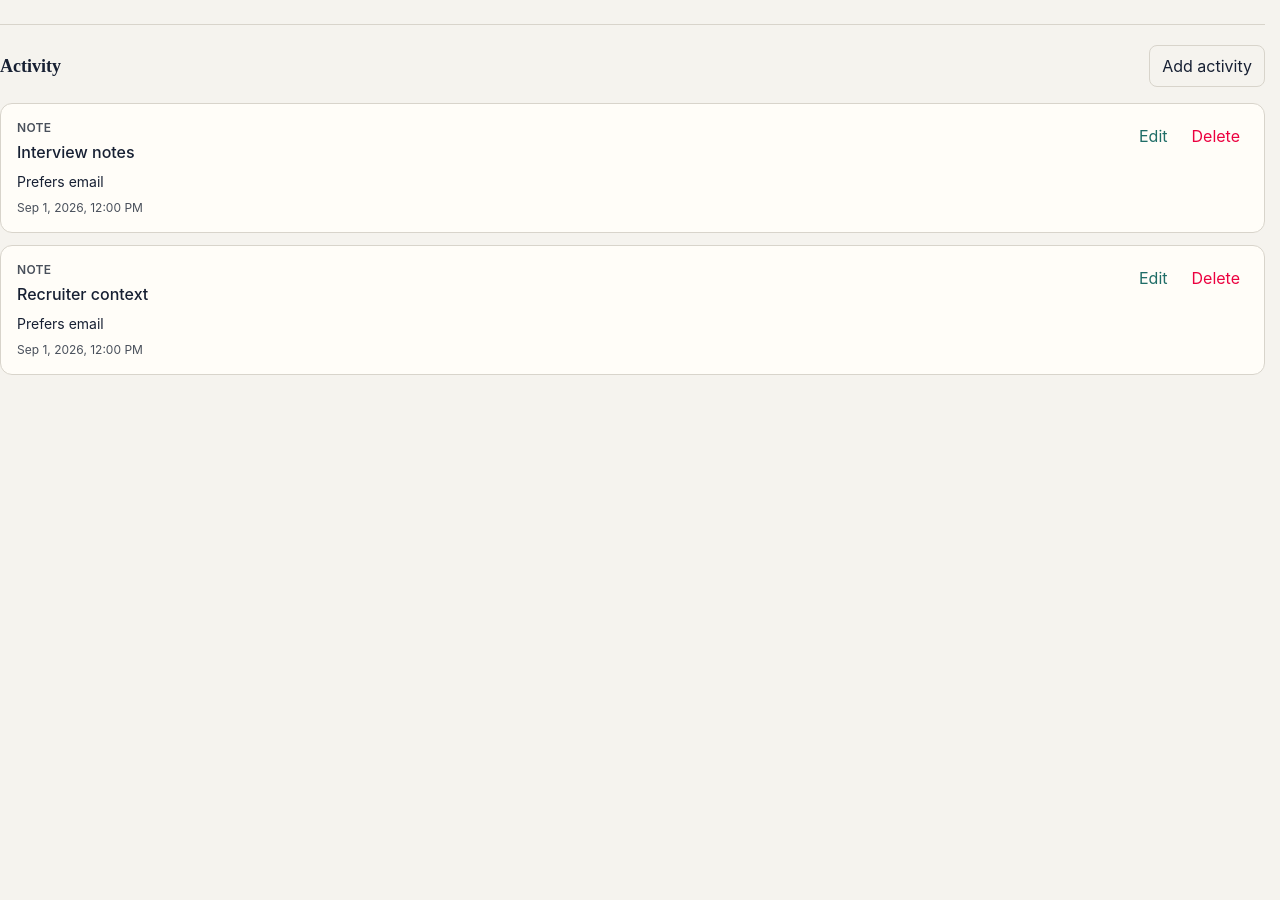
Scenario: asks before replacing a dirty activity editor
Click the button with aria-label "Edit Recruiter context". click: (1153, 278)
box: [1131,262,1176,294]
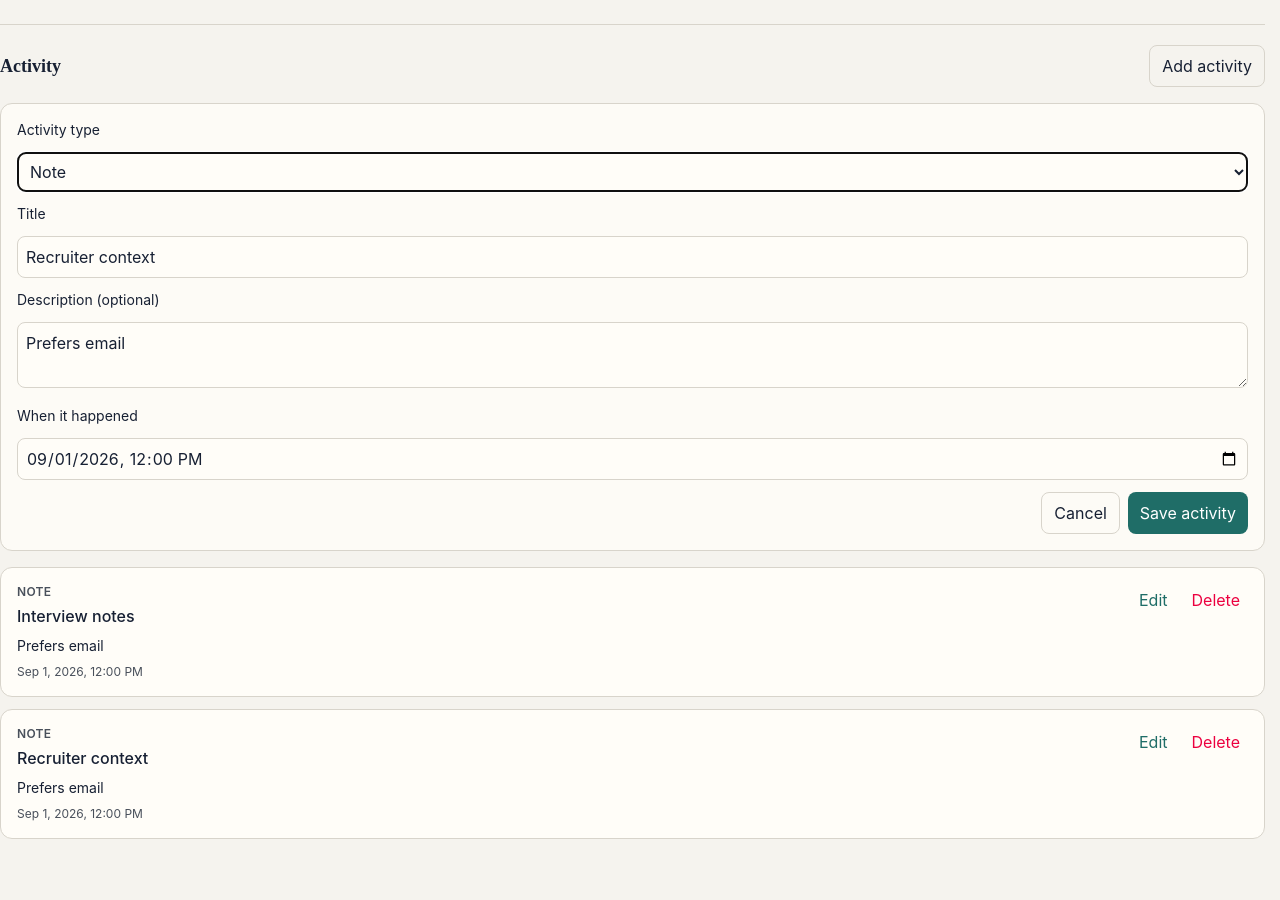
Replace the text in the field labelled "Title" with "Draft activity". click: (632, 257)
box: [17,236,1248,278]
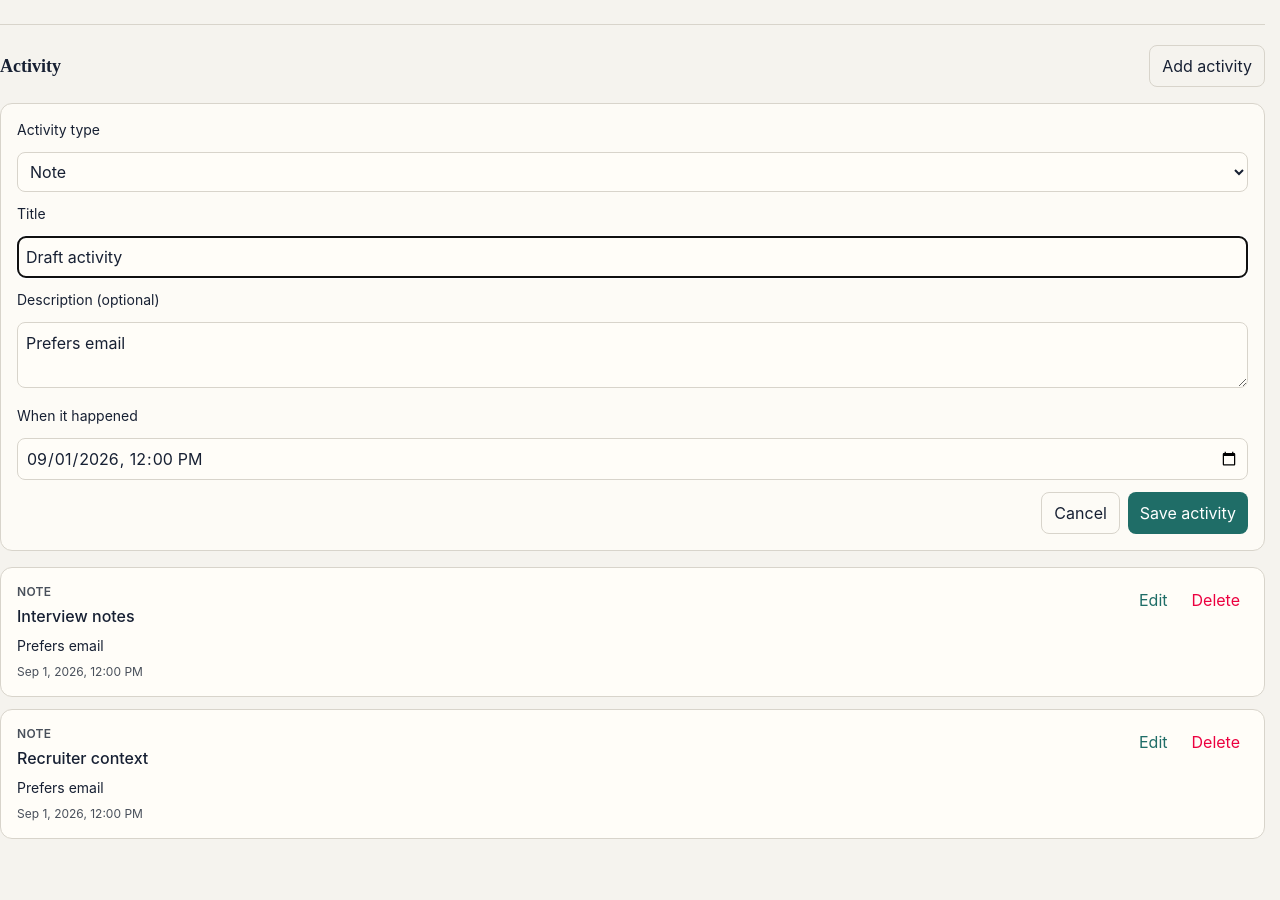
Click the button with aria-label "Edit Interview notes". click: (1153, 600)
box: [1131,584,1176,616]
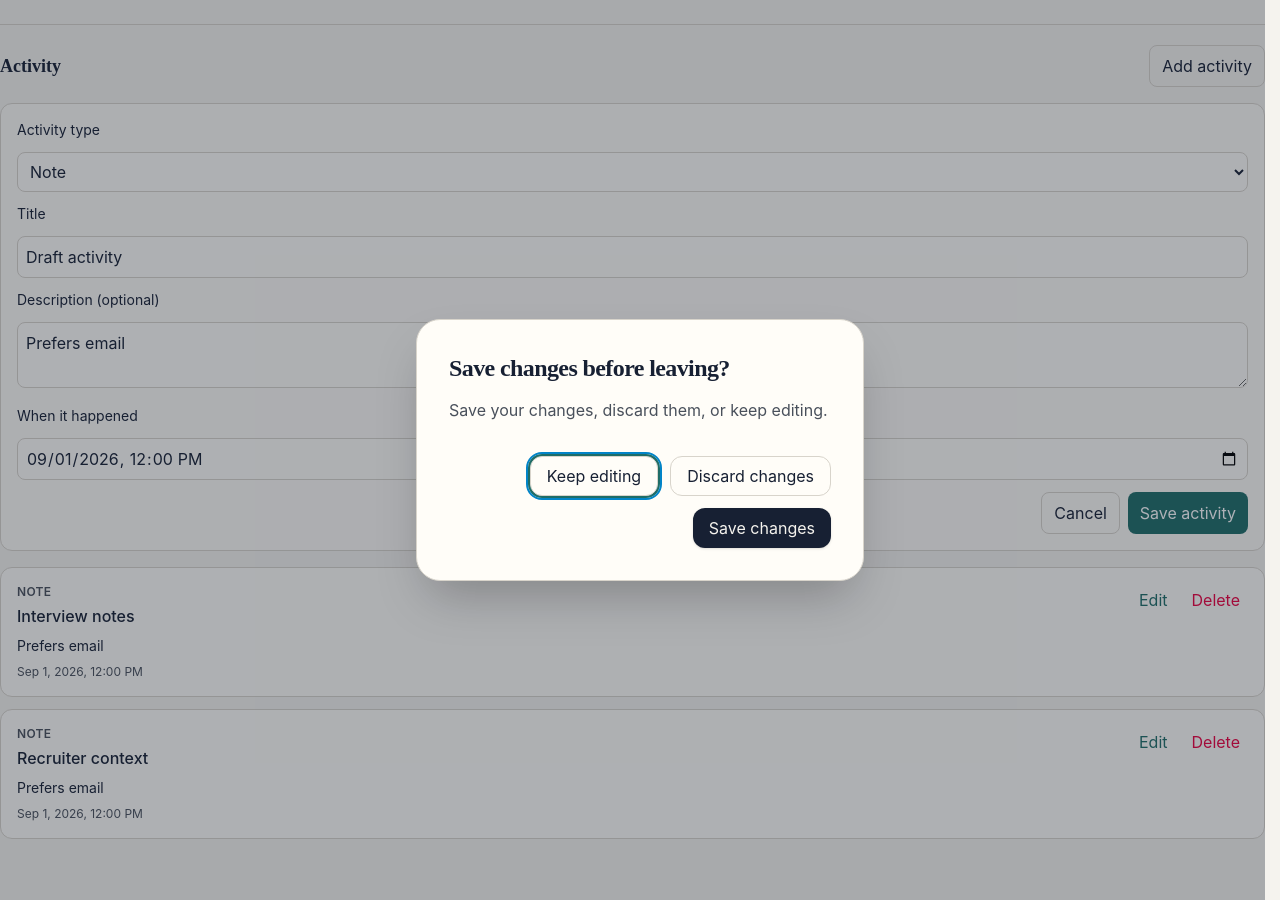
Expected: the dialog "Save changes before leaving?" is shown, [416,319,864,581]
Click the button "Keep editing". click: (594, 476)
box: [530,456,658,496]
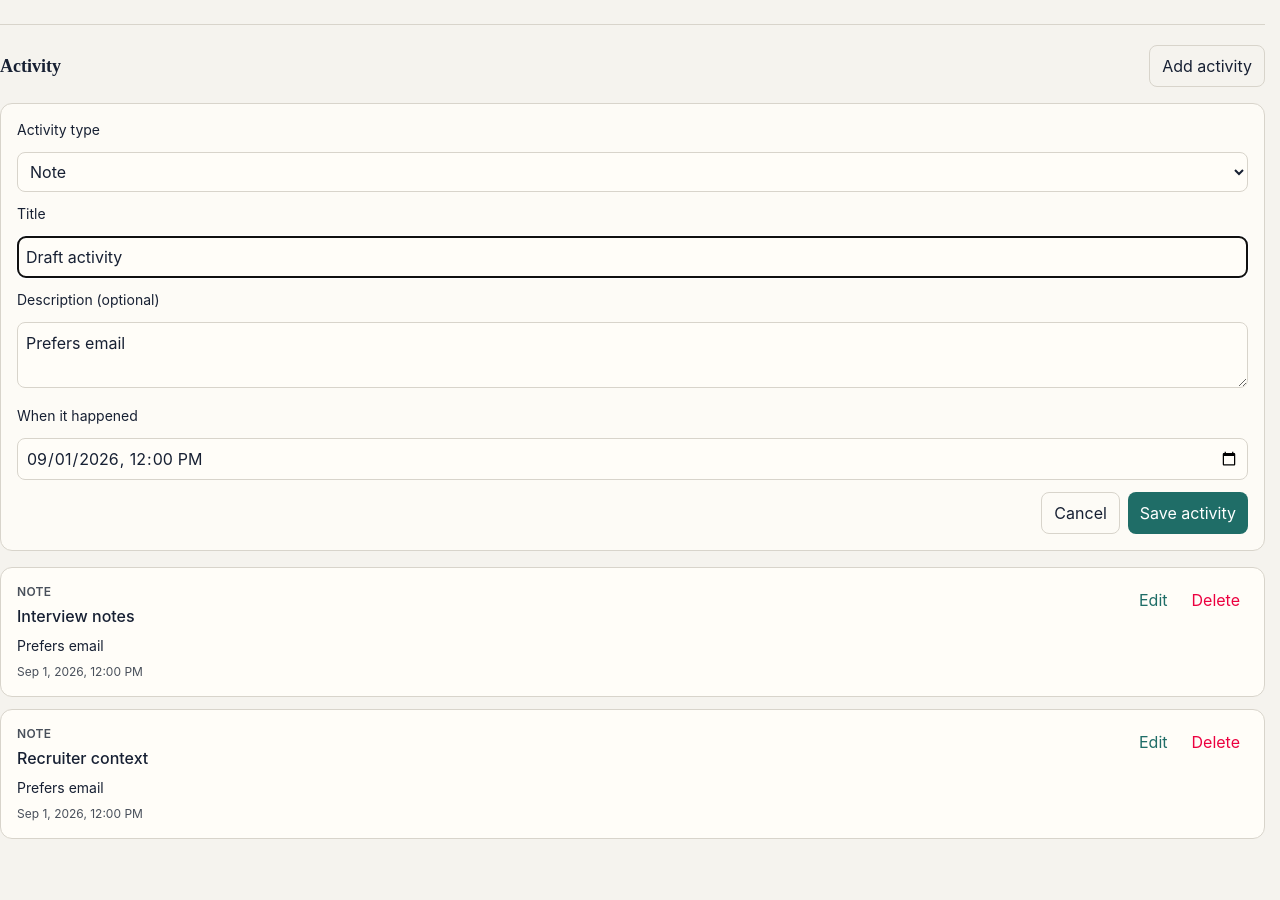
Click the button with aria-label "Edit Interview notes". click: (1153, 600)
box: [1131,584,1176,616]
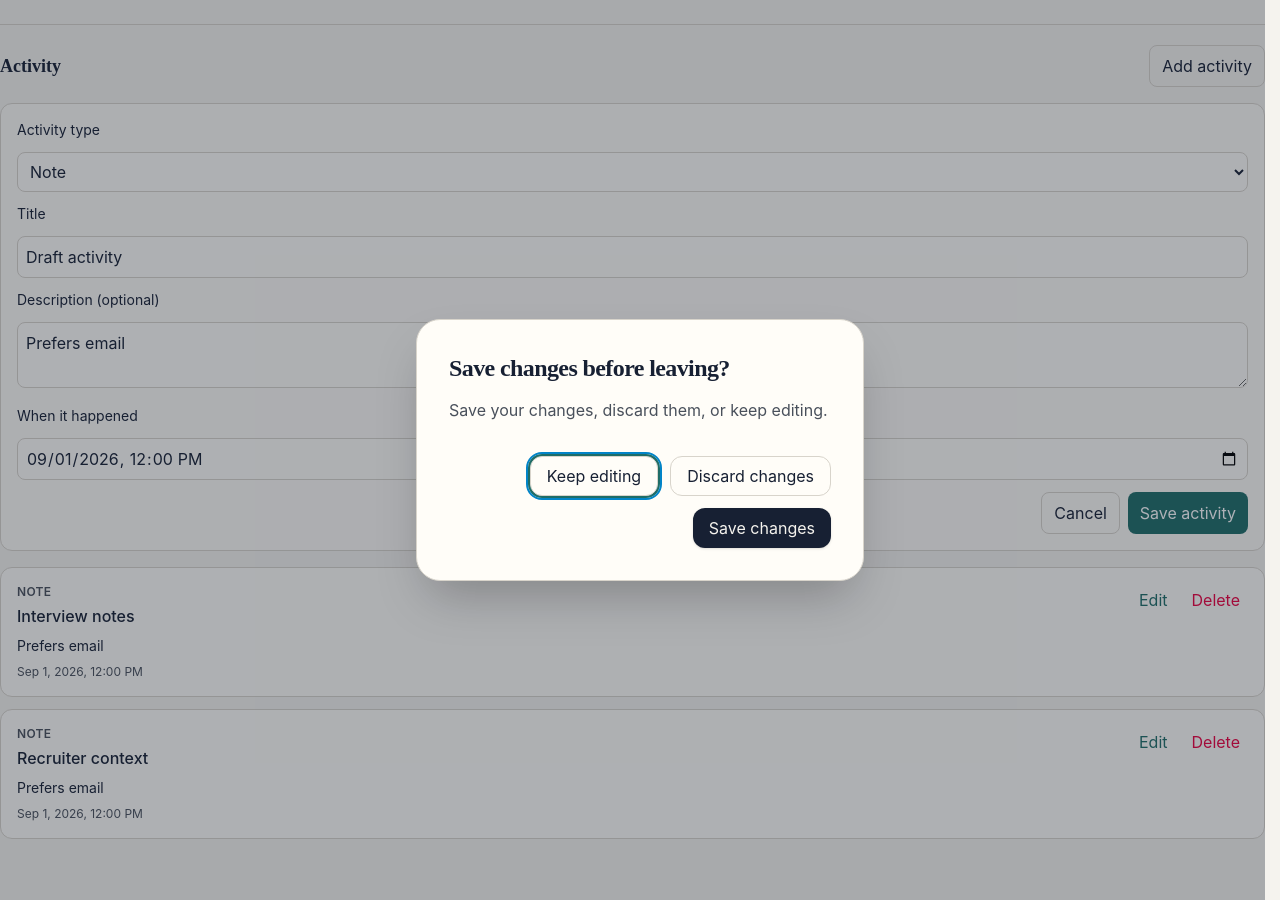
Click the button "Discard changes". click: (751, 476)
box: [670,456,831,496]
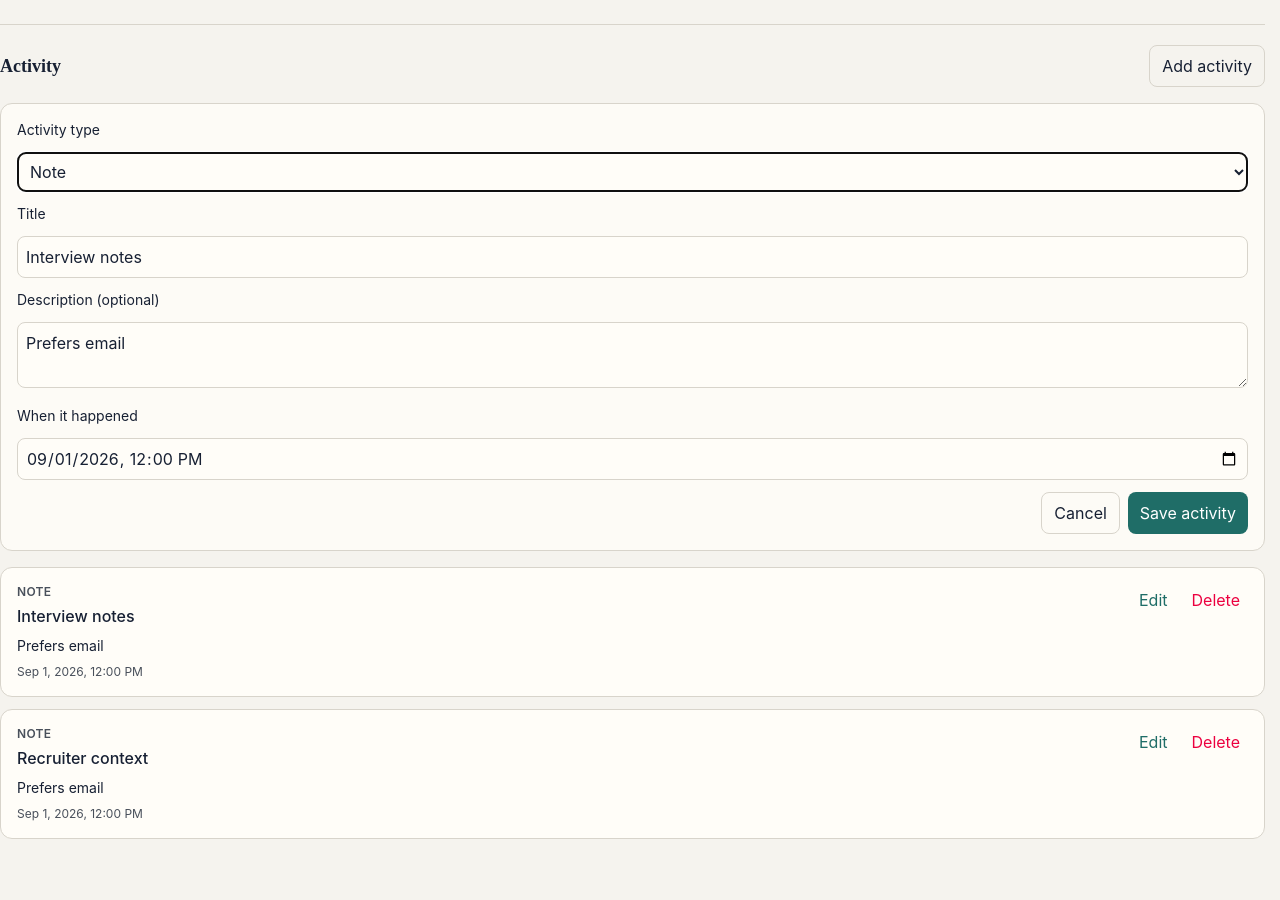
Expected: the field labelled "Title" holds "Interview notes", [17,236,1248,278]
